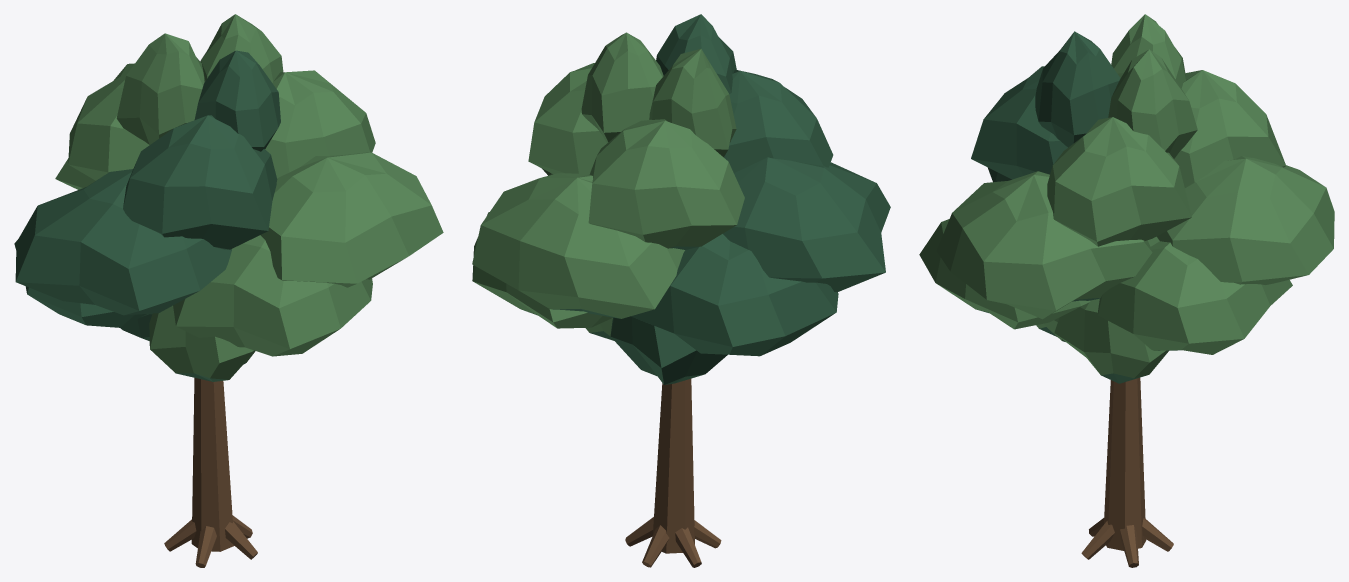
The model's file is b08_sugar_maple.glb.
3 renders of one model, left to right at view 1: azimuth 30°, elevation 25°; view 2: azimuth 150°, elevation 25°; view 3: azimuth 270°, elevation 25°, orthographic.
Visible parts, largest first — view 1: b08_sugar_maple; view 2: b08_sugar_maple; view 3: b08_sugar_maple.
Boxes of the visible parts, bbox=[...] form: b08_sugar_maple: bbox=[14, 14, 443, 567]; b08_sugar_maple: bbox=[472, 14, 890, 567]; b08_sugar_maple: bbox=[919, 14, 1334, 567].
Bounding box in the file's own units: 4.54 × 5.92 × 4.31.
